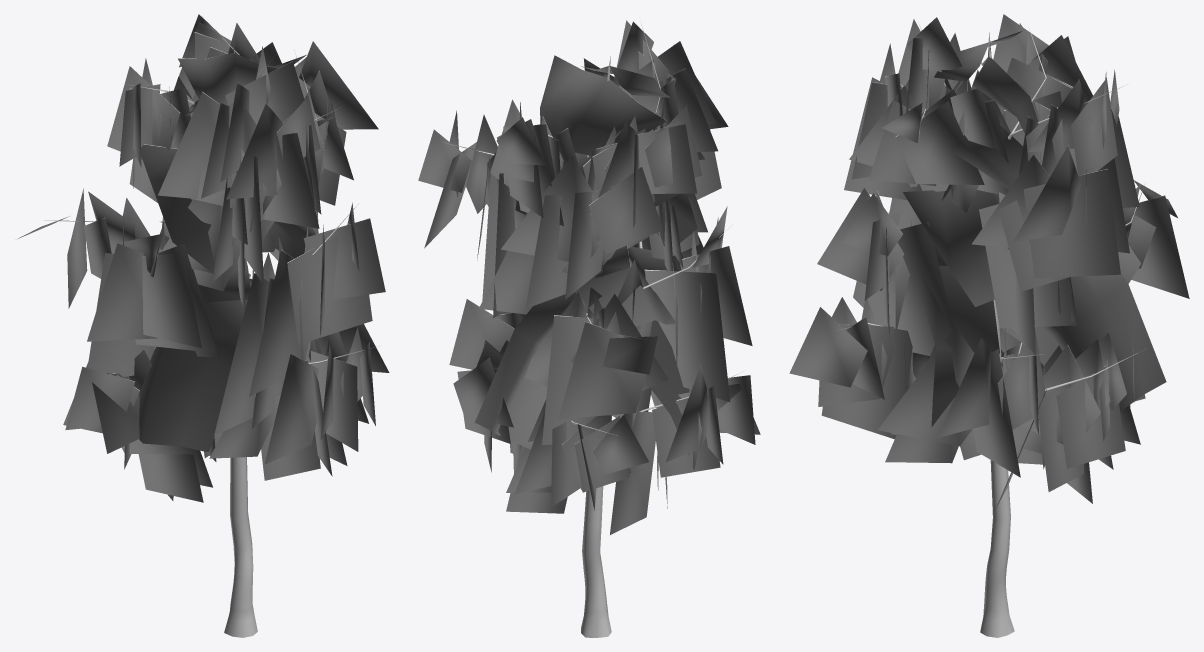
Rendered from Birch 2.fbx.
3 renders of one model, left to right at view 1: azimuth 30°, elevation 25°; view 2: azimuth 150°, elevation 25°; view 3: azimuth 270°, elevation 25°, orthographic. The views are drawn at different scales.
Parts seen in each view (by area): view 1: LOD0; view 2: LOD0; view 3: LOD0.
Part boxes in pixels (x1,y1,x2,y2): LOD0: (18,14,389,637); LOD0: (418,20,760,637); LOD0: (789,14,1189,637).
Size of what is drawn, in the model's own units: 1420 by 2614 by 1555.
